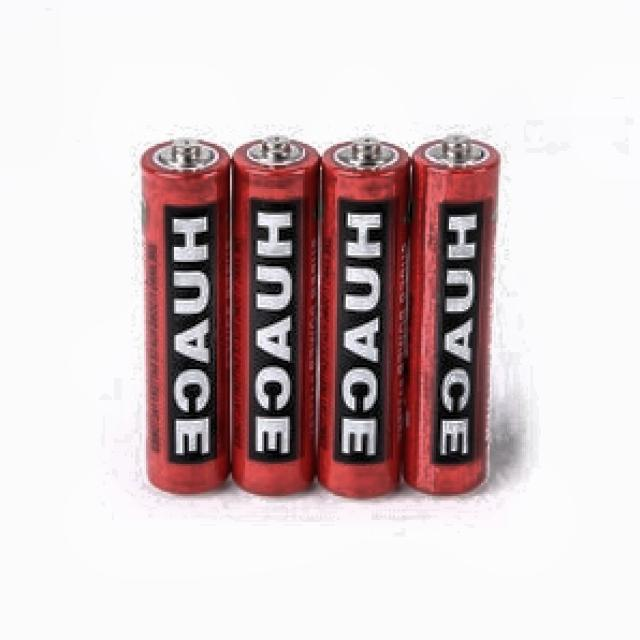Non-Valuable Waste - Batteries: (405, 135, 500, 494), (319, 139, 410, 496), (232, 137, 320, 495), (141, 139, 230, 492)
